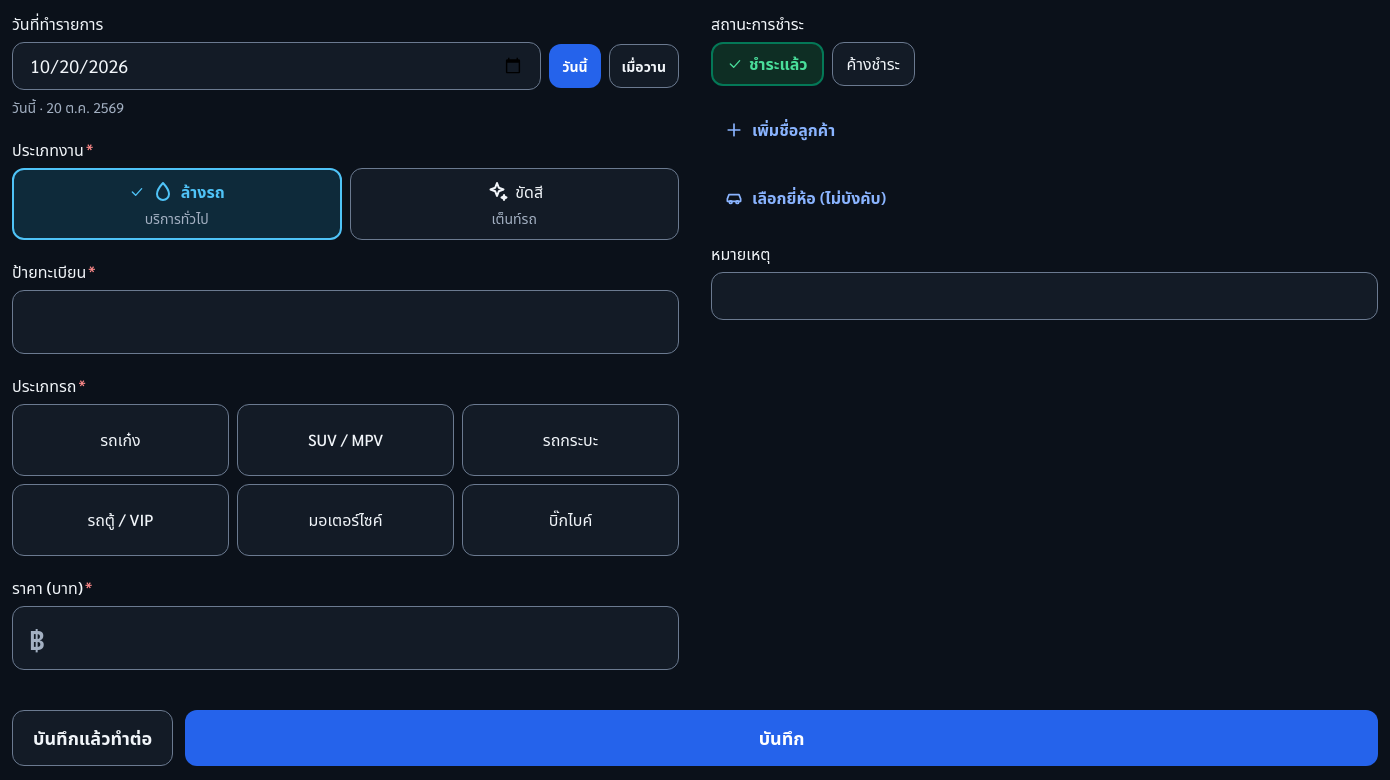
it: IncomeEditor › does not save an empty form and lists what to fix (AC-04-2)
The width and height of the screenshot is (1390, 780).
Click the button "บันทึก" at [782, 738], box [185,710,1378,766]
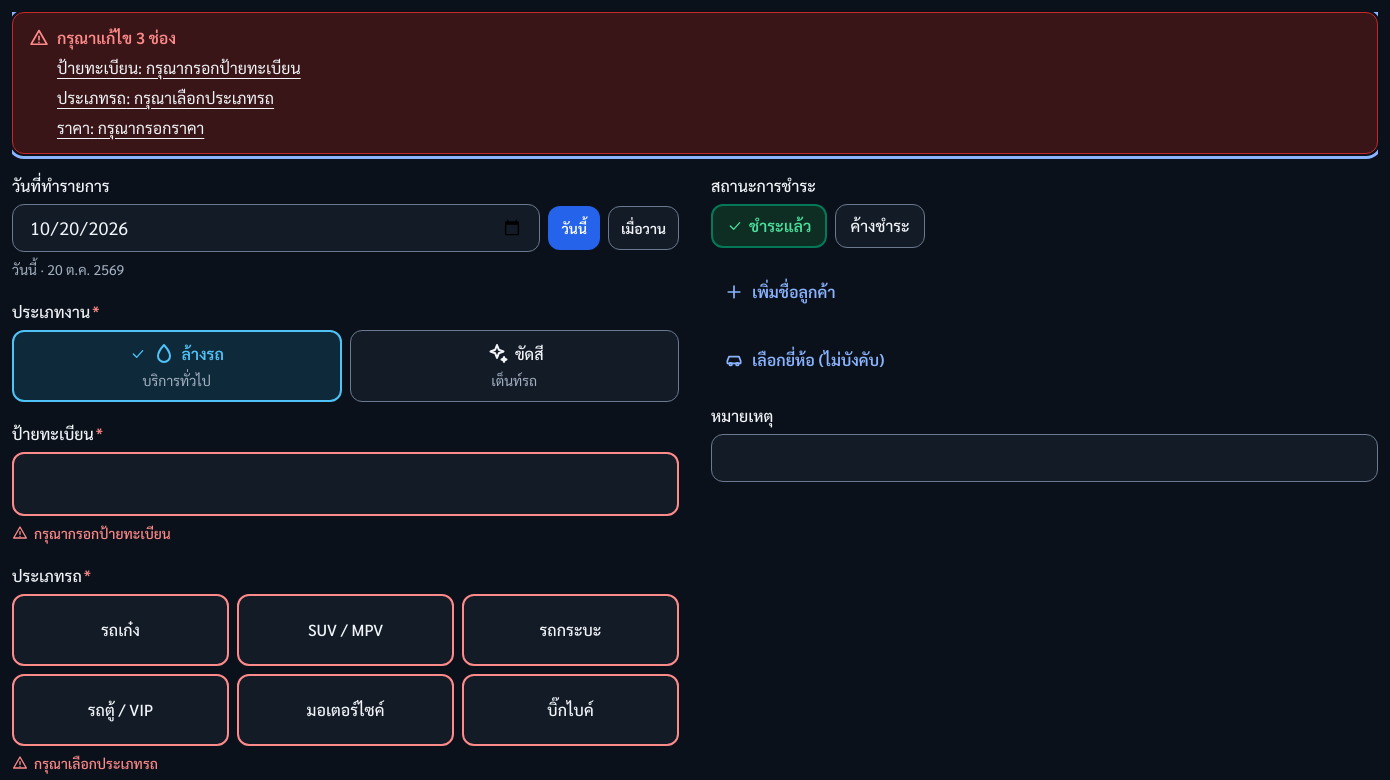
Result: the message shows "กรุณาแก้ไข 3 ช่อง" at [12,12,1378,154]
